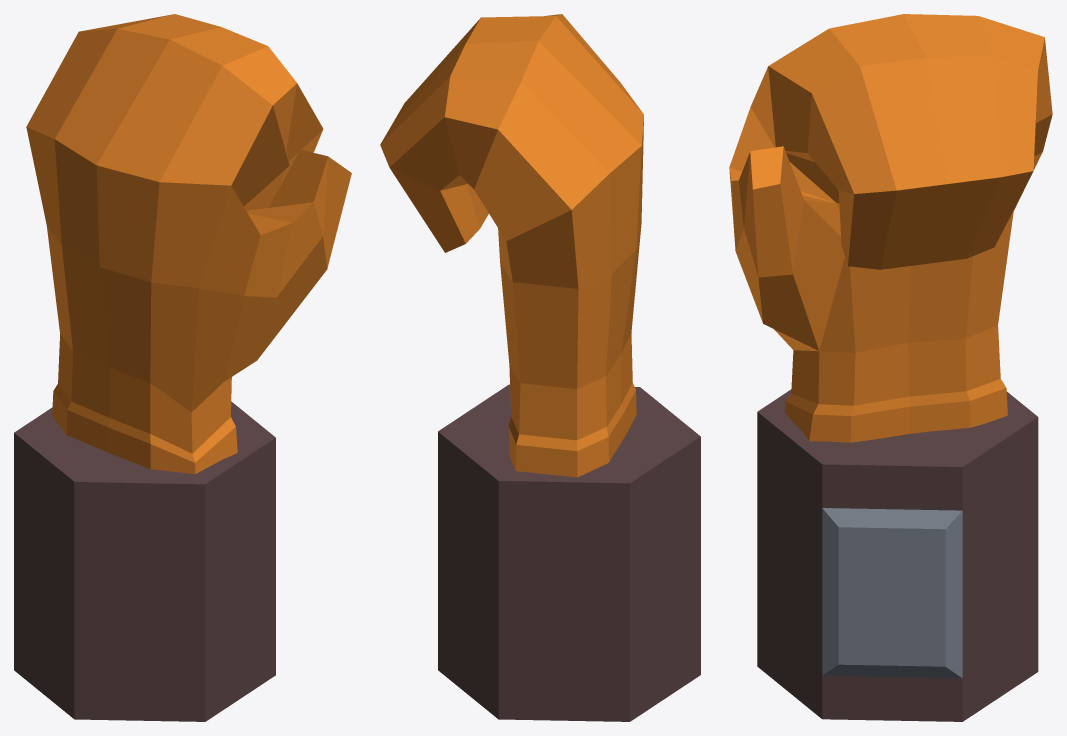
File: Prize_glove.fbx
3 renders of one model, left to right at view 1: azimuth 30°, elevation 25°; view 2: azimuth 150°, elevation 25°; view 3: azimuth 270°, elevation 25°, orthographic. The views are drawn at different scales.
Parts seen in each view (by area): view 1: prize glove; view 2: prize glove; view 3: prize glove.
Boxes of the visible parts, box(x1,y1,x2,y2) form: prize glove: box(14, 14, 351, 721); prize glove: box(380, 14, 700, 721); prize glove: box(729, 14, 1052, 721).
Bounding box in the file's own units: 18.14 × 40.77 × 17.84.
